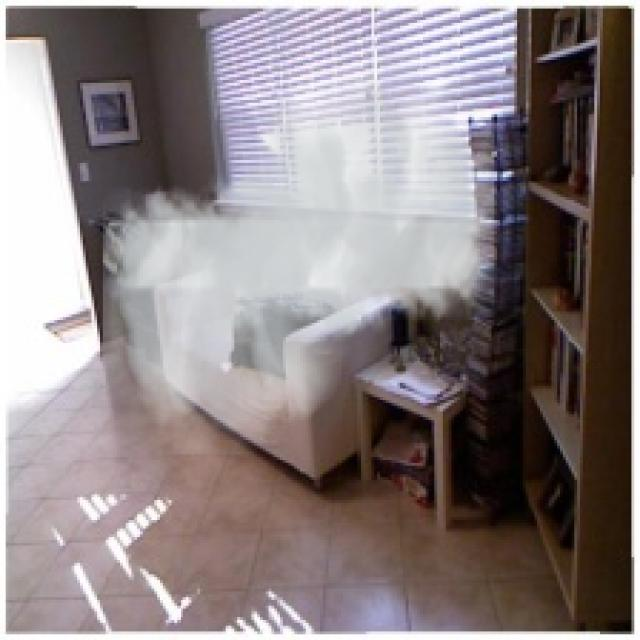smoke: (103, 54, 494, 454)
